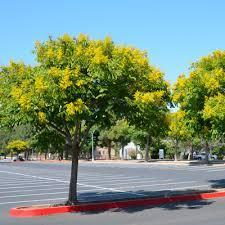tree: (6, 33, 174, 213)
